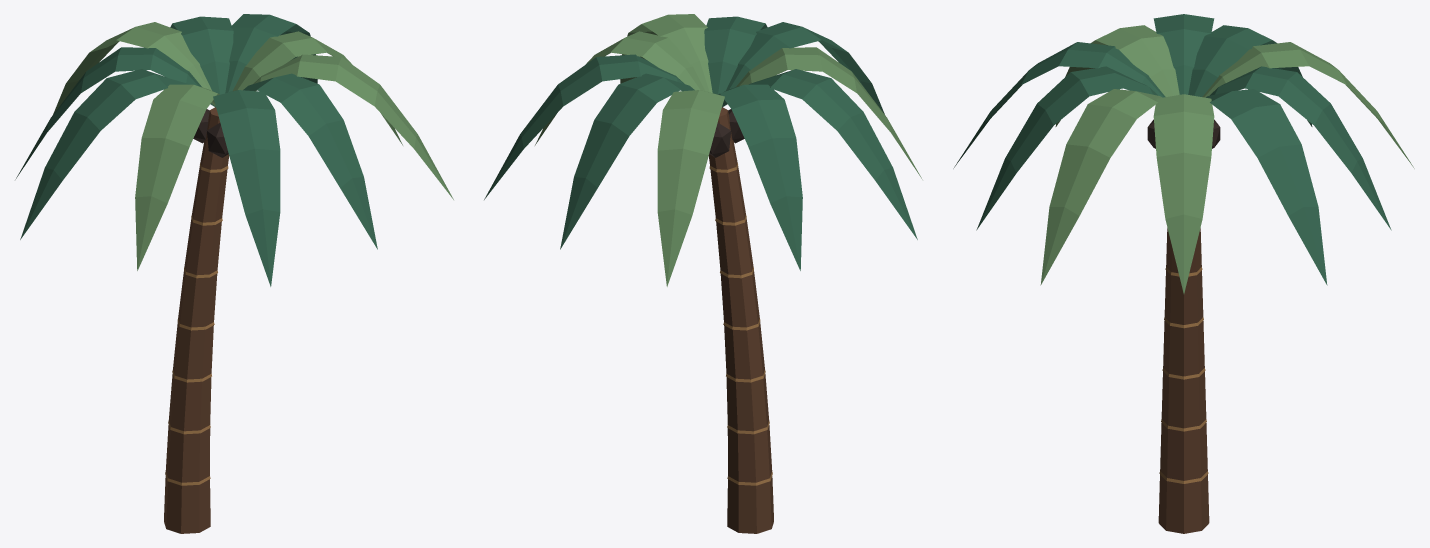
File: PirateCove_WindPalm_Standard.glb
3 views of the same model, side by side, from view 1: azimuth 30°, elevation 25°; view 2: azimuth 150°, elevation 25°; view 3: azimuth 270°, elevation 25° (orthographic). The views are drawn at different scales.
Visible parts, largest first — view 1: PirateCove_WindPalm_Standard; view 2: PirateCove_WindPalm_Standard; view 3: PirateCove_WindPalm_Standard.
Part boxes in pixels (x1,y1,x2,y2): PirateCove_WindPalm_Standard: (15, 14, 453, 533); PirateCove_WindPalm_Standard: (484, 14, 922, 533); PirateCove_WindPalm_Standard: (953, 14, 1414, 533).
Size of the model in its own units: 3.28 by 3.74 by 3.29.
